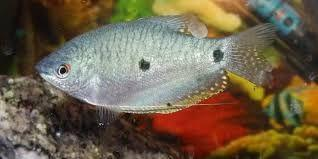Gourami: (37, 13, 275, 127)
